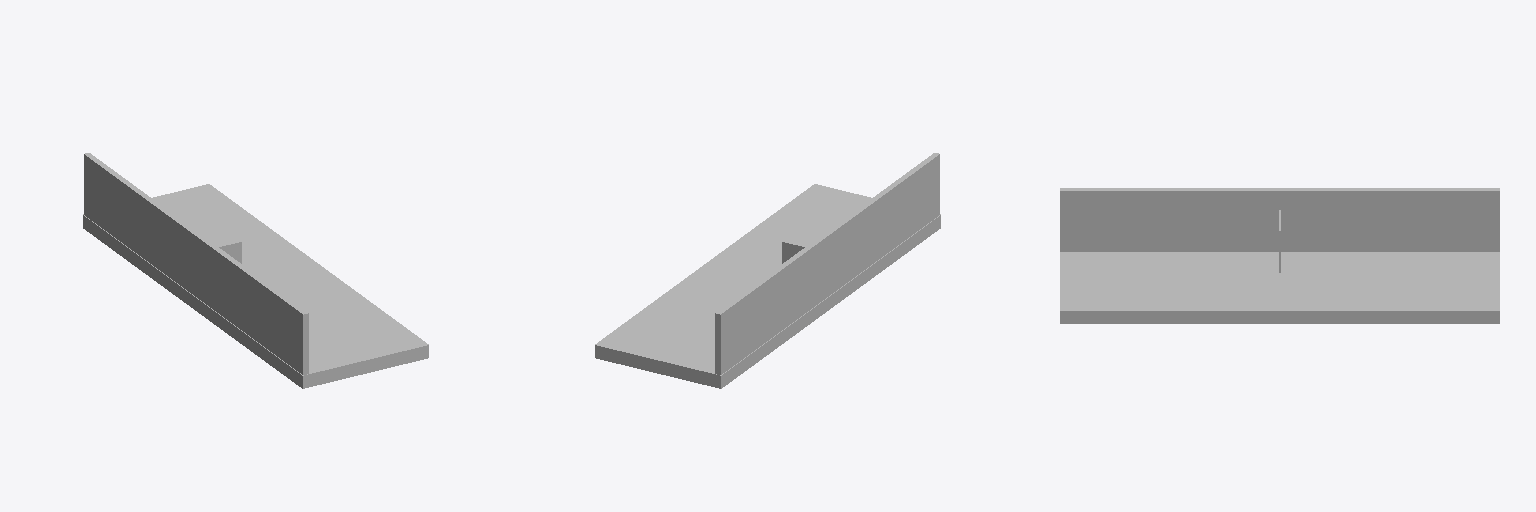
The model's file is LightingDemo.obj.
The picture shows the model from 3 angles: view 1: azimuth 30°, elevation 25°; view 2: azimuth 150°, elevation 25°; view 3: azimuth 270°, elevation 25°; orthographic projection.
Visible parts, largest first — view 1: Cube, Cube.001; view 2: Cube, Cube.001; view 3: Cube, Cube.001.
Part boxes in pixels (bbox=[...]): Cube: bbox=[83, 184, 428, 388]; Cube.001: bbox=[84, 153, 308, 374]; Cube: bbox=[595, 184, 940, 388]; Cube.001: bbox=[715, 153, 939, 374]; Cube: bbox=[1060, 252, 1499, 323]; Cube.001: bbox=[1060, 188, 1499, 251].
Bounding box in the file's own units: 10 × 5.59 × 30.09.